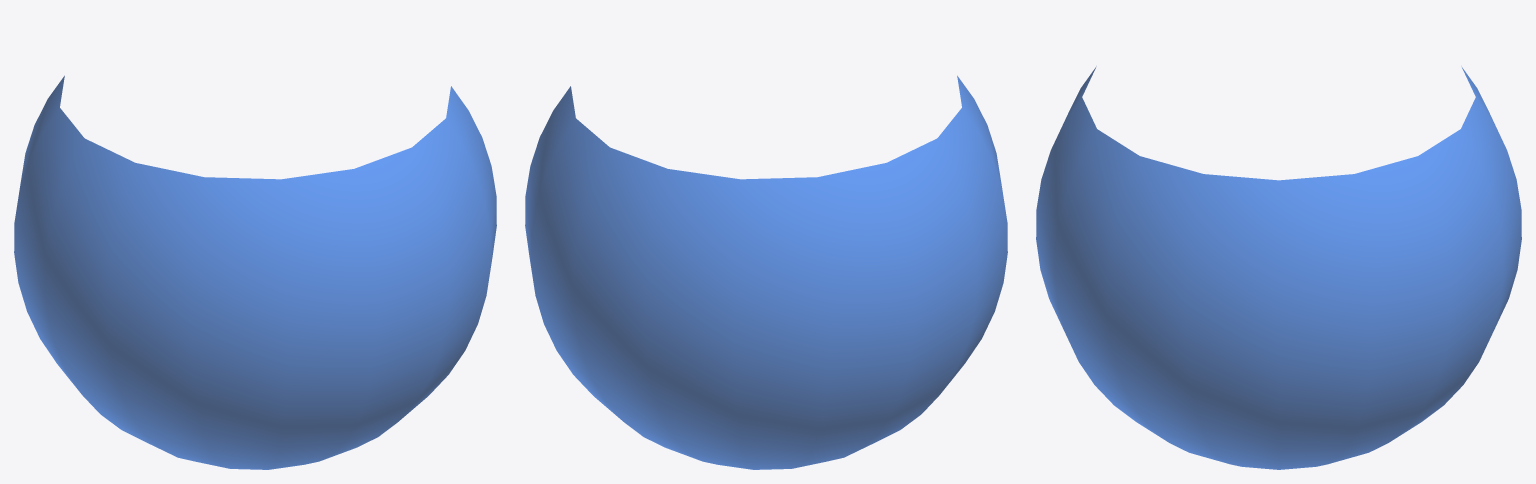
The model's file is powerup_shield.glb.
3 views of the same model, side by side, from view 1: azimuth 30°, elevation 25°; view 2: azimuth 150°, elevation 25°; view 3: azimuth 270°, elevation 25° (orthographic).
Bounding box in the file's own units: 0.9983 × 0.7939 × 0.9983.
